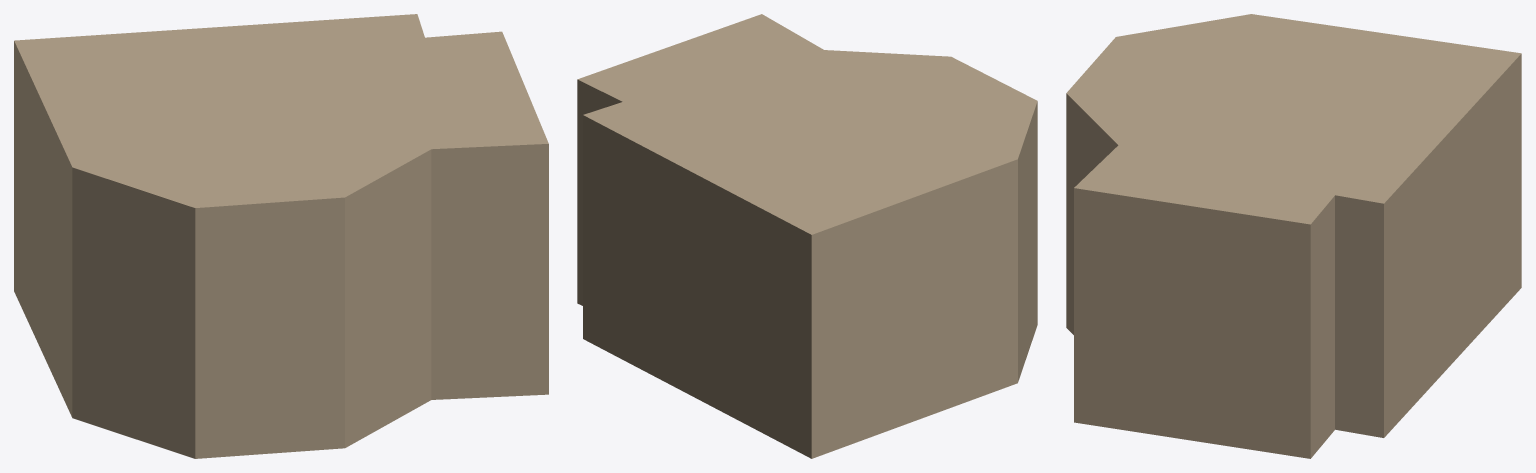
Rendered from bld_98868849.dae.
3 views of the same model, side by side, from view 1: azimuth 30°, elevation 25°; view 2: azimuth 150°, elevation 25°; view 3: azimuth 270°, elevation 25° (orthographic). The views are drawn at different scales.
Visible parts, largest first — view 1: bld_98868849; view 2: bld_98868849; view 3: bld_98868849.
Part boxes in pixels (left/top/right/bottom): bld_98868849: left=14, top=14, right=548, bottom=458; bld_98868849: left=577, top=14, right=1037, bottom=458; bld_98868849: left=1066, top=14, right=1521, bottom=458.
Size of the model in its own units: 15.41 by 14.08 by 8.
